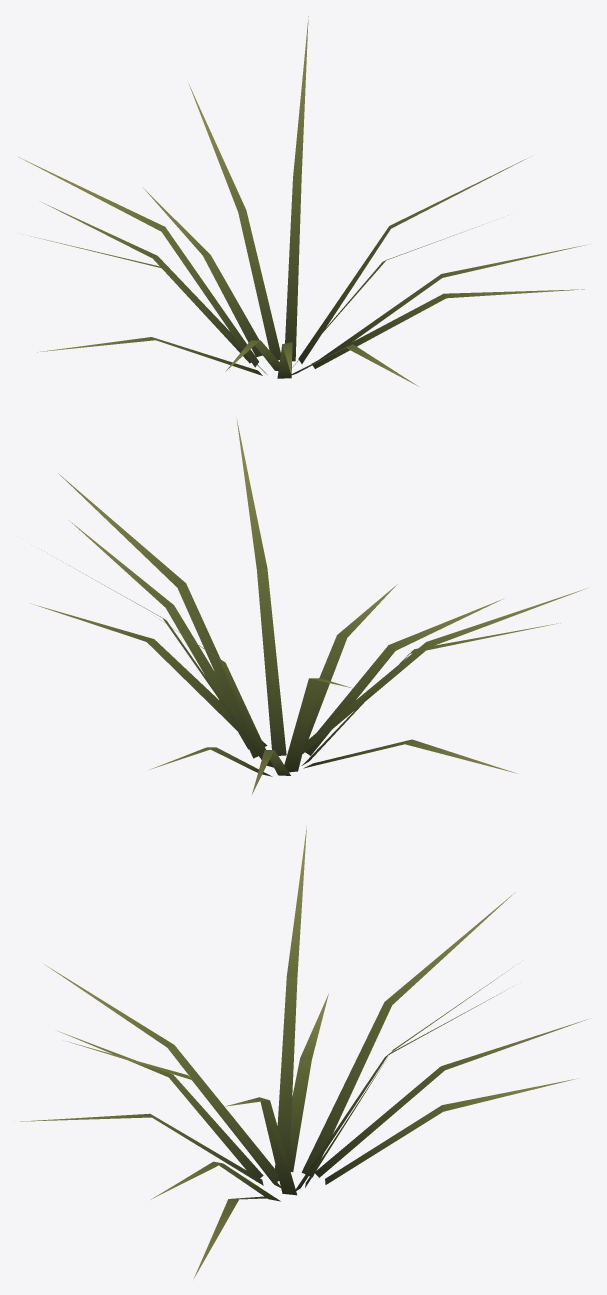
The model's file is grass_olive_tuft_01.glb.
3 renders of one model, top to bottom at view 1: azimuth 30°, elevation 25°; view 2: azimuth 150°, elevation 25°; view 3: azimuth 270°, elevation 25°, orthographic. The views are drawn at different scales.
Visible parts, largest first — view 1: grass_olive_tuft_01_mesh; view 2: grass_olive_tuft_01_mesh; view 3: grass_olive_tuft_01_mesh.
Boxes of the visible parts, x1,y1,x2,y2 form: grass_olive_tuft_01_mesh: [18, 16, 588, 386]; grass_olive_tuft_01_mesh: [31, 418, 587, 794]; grass_olive_tuft_01_mesh: [14, 826, 587, 1278].
Size of the model in its own units: 0.6125 by 0.2729 by 0.5184.
